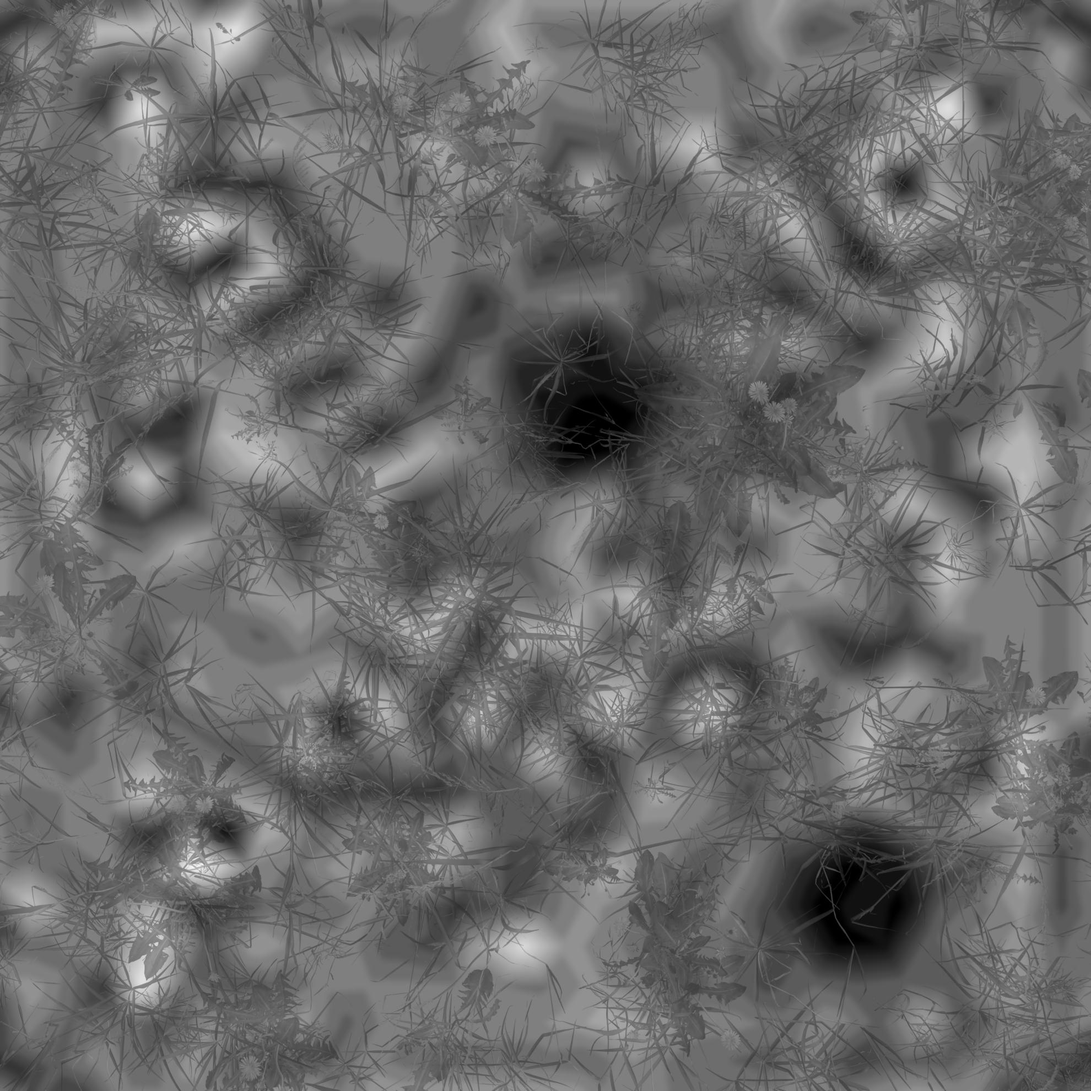landmine: (511, 333, 658, 491), (791, 821, 935, 971)
